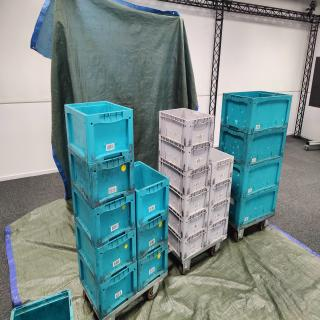Box8G: (160, 108, 217, 148), (160, 157, 213, 198), (160, 136, 214, 173), (169, 207, 211, 242), (169, 187, 213, 220), (169, 227, 210, 261), (212, 149, 235, 187), (210, 177, 233, 209), (208, 219, 231, 247), (209, 201, 231, 229)
BoxB4: (219, 124, 291, 170), (221, 91, 294, 136), (228, 157, 294, 203), (229, 187, 287, 233)
BoxB8: (65, 145, 136, 211), (64, 102, 136, 167), (70, 183, 138, 251), (74, 219, 139, 286), (79, 253, 140, 311), (135, 160, 174, 230), (137, 214, 175, 262), (139, 242, 170, 296)
